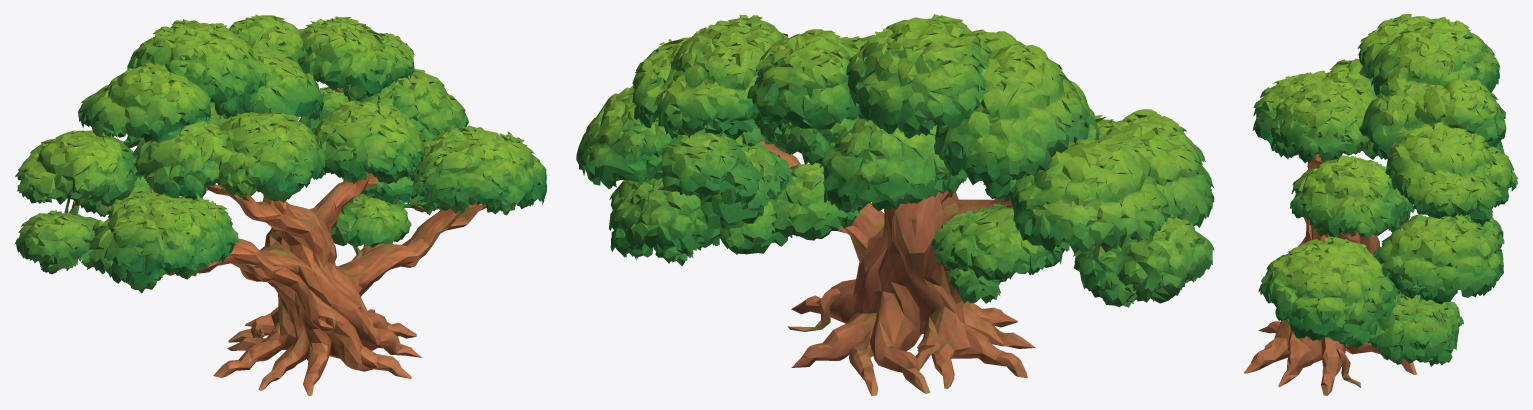
Rendered from oak.glb.
The picture shows the model from 3 angles, left to right: view 1: azimuth 30°, elevation 25°; view 2: azimuth 150°, elevation 25°; view 3: azimuth 270°, elevation 25°; orthographic projection. The views are drawn at different scales.
Visible parts, largest first — view 1: oak; view 2: oak; view 3: oak.
Part boxes in pixels (<box>): oak: <box>14,14,546,395</box>; oak: <box>576,14,1214,395</box>; oak: <box>1244,14,1517,395</box>.
Bounding box in the file's own units: 1 × 0.6101 × 0.5175.
Materials: 1 (1 with a texture image).
